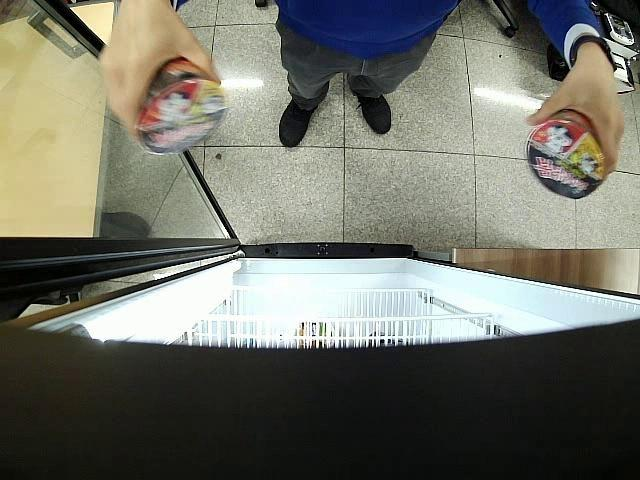08_buldak_S: (136, 57, 228, 156), (526, 110, 604, 198)
